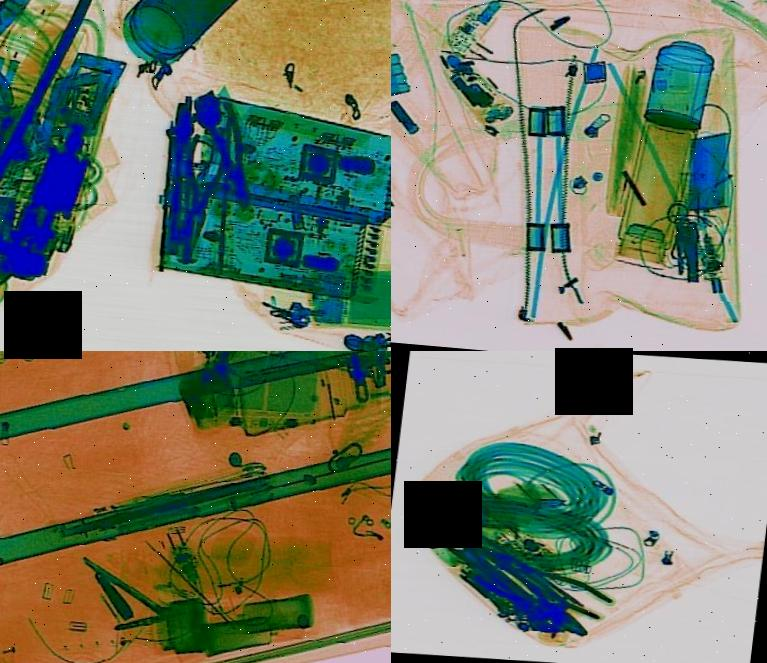Pliers: (466, 555, 607, 647), (488, 544, 624, 621), (164, 128, 235, 264), (197, 95, 272, 210)
Wrench: (428, 525, 590, 643)
